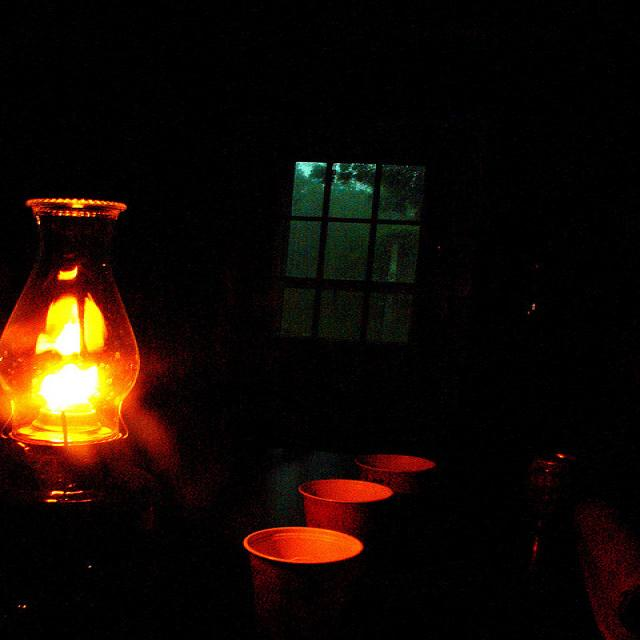Bottle: (0, 165, 176, 475)
Cup: (250, 514, 361, 633), (264, 438, 393, 538), (370, 412, 470, 535), (504, 439, 596, 572)
Table: (0, 356, 627, 640)
